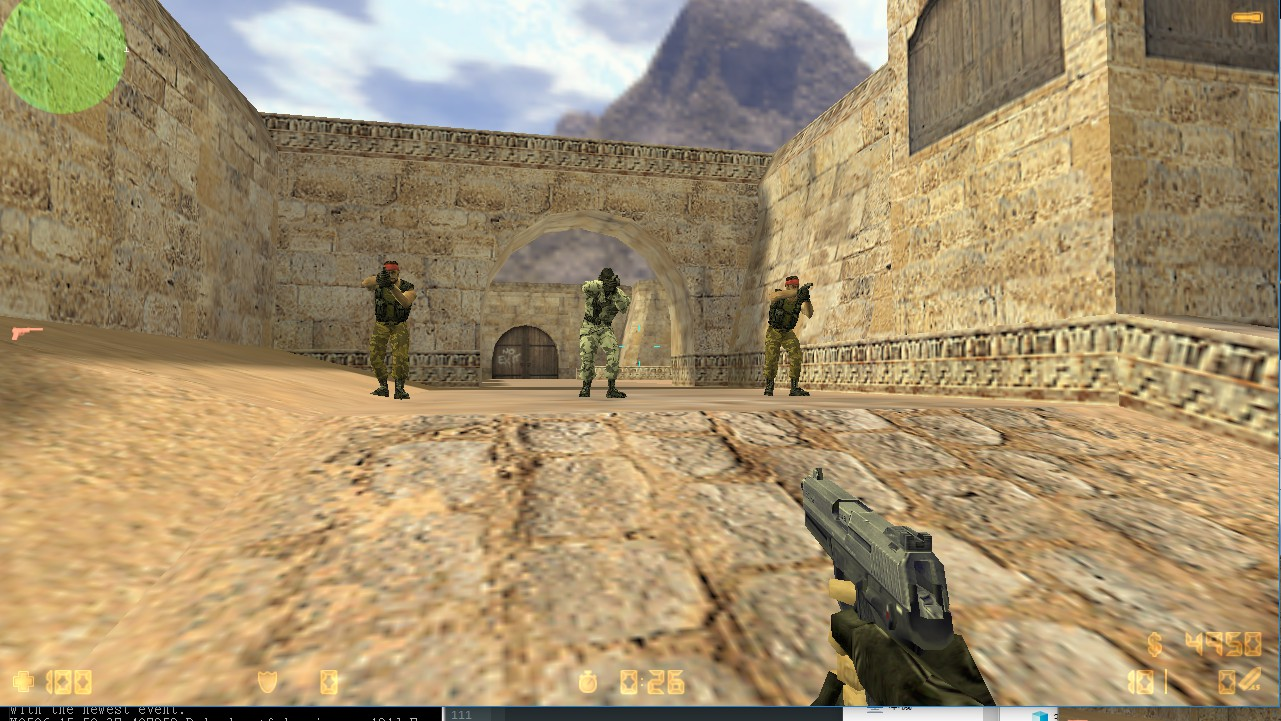person: (579, 265, 637, 406), (360, 252, 412, 404), (764, 271, 815, 397)
